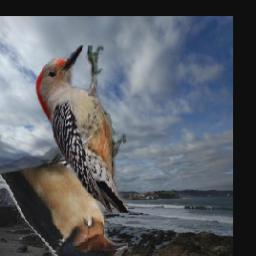Swallow: (0, 148, 129, 256)
Woodpecker: (36, 46, 129, 214)
